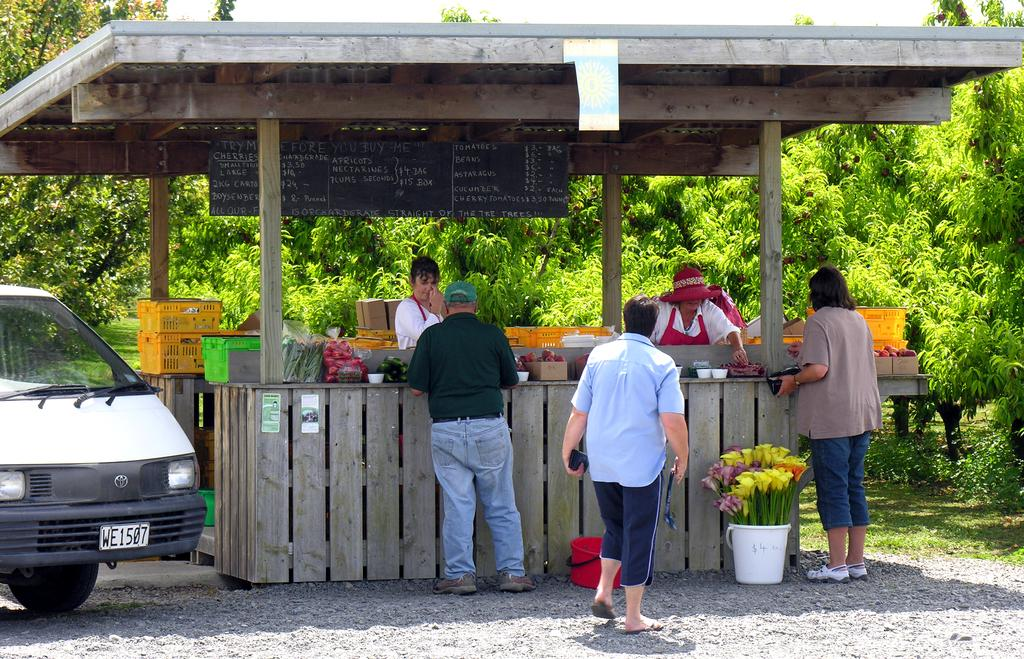vehicle: (1, 285, 207, 610)
